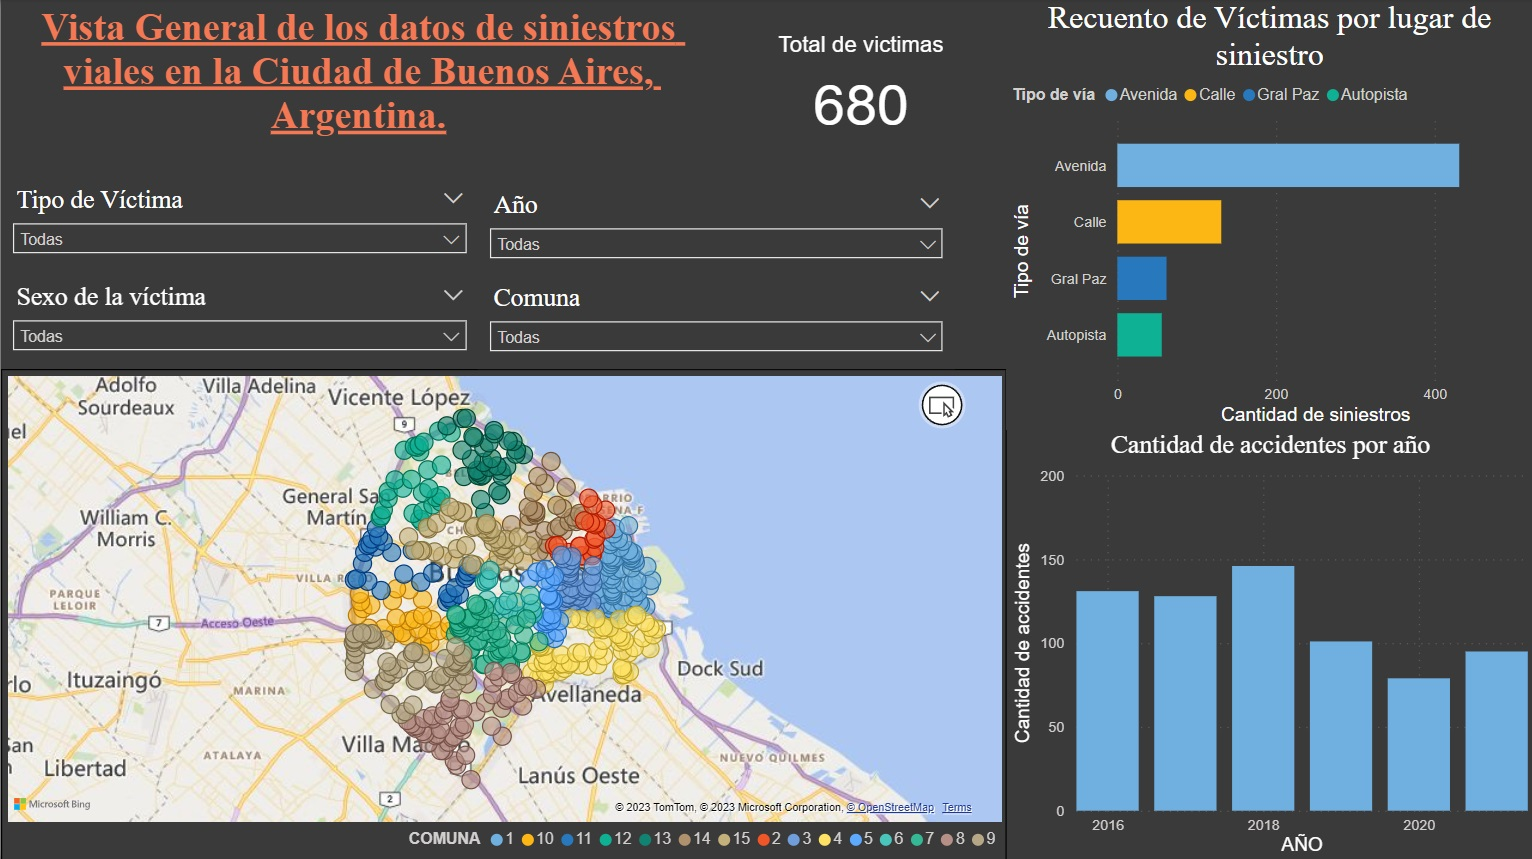

This screenshot's page, from the dashboard's own definition file:
{"tool":"powerbi","page":{"name":"DatosSiniestros","canvas":[1280,720],"ordinal":1},"visuals":[{"type":"map","fields":{"Y":["homicidios_final.LATITUD"],"X":["homicidios_final.LONGITUD"],"Series":["homicidios_final.COMUNA"]},"box":[16.8,309.5,762.6,383.9],"z":0},{"type":"barChart","title":"Recuento de Víctimas por lugar de siniestro","fields":{"Y":["CountNonNull(homicidios_final.FECHA_ACCIDENTE)"],"Category":["homicidios_final.TIPO_DE_CALLE"],"Series":["homicidios_final.TIPO_DE_CALLE"]},"box":[779.4,27.5,478.8,332.5],"z":1000},{"type":"slicer","fields":{"Values":["homicidios_final.COMUNA"]},"box":[399,232.3,380.4,77.1],"z":2000},{"type":"slicer","fields":{"Values":["homicidios_final.VICTIMA"]},"box":[16.8,154.3,382.2,77.1],"z":3000},{"type":"slicer","fields":{"Values":["homicidios_final.SEXO"]},"box":[16.8,231.4,381.3,77.1],"z":4000},{"type":"slicer","fields":{"Values":["homicidios_final.ANIO"]},"box":[398.1,154.3,381.3,77.1],"z":5000},{"type":"card","title":"Total de victimas","fields":{"Values":["CountNonNull(homicidios_final.N_VICTIMAS)"]},"box":[589.7,56.7,189.8,94],"z":6000},{"type":"textbox","box":[16.8,27.5,572.8,123.3],"z":7000},{"type":"columnChart","title":"Cantidad de accidentes por año","fields":{"Category":["homicidios_final.AÑO"],"Y":["CountNonNull(homicidios_final.FECHA_ACCIDENTE)"]},"box":[779.4,360,478.8,333.4],"z":8000}]}

Visuals, with their boxes in screenshot pixels (x1, y1, x2, y2), scaled from the page's 1280x720 canvas onto the 1532x859 screenshot:
map - homicidios_final.LATITUD x homicidios_final.LONGITUD: box=[20, 369, 933, 827]
"Recuento de Víctimas por lugar de siniestro" barChart: box=[933, 33, 1506, 430]
slicer - homicidios_final.COMUNA: box=[478, 277, 933, 369]
slicer - homicidios_final.VICTIMA: box=[20, 184, 478, 276]
slicer - homicidios_final.SEXO: box=[20, 276, 476, 368]
slicer - homicidios_final.ANIO: box=[476, 184, 933, 276]
"Total de victimas" card: box=[706, 68, 933, 180]
textbox: box=[20, 33, 706, 180]
"Cantidad de accidentes por año" columnChart: box=[933, 430, 1506, 827]
